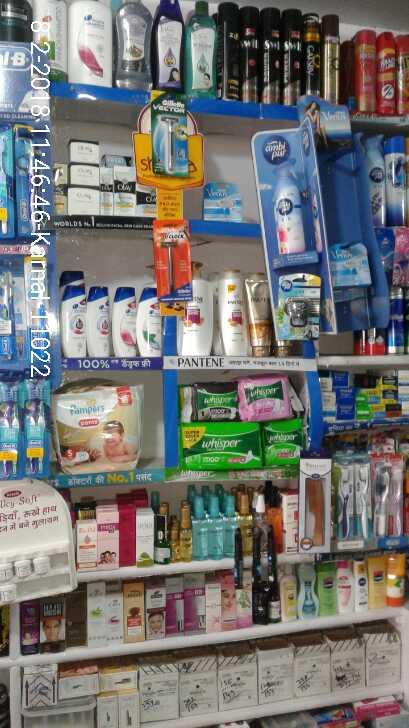ambipureVesus: (257, 123, 312, 268), (275, 273, 322, 335), (367, 134, 390, 225)
gillete: (149, 92, 191, 175), (152, 220, 194, 300), (389, 286, 404, 355), (369, 330, 385, 358), (356, 331, 365, 355)
venus: (329, 244, 374, 287), (307, 99, 351, 135), (202, 184, 240, 217)
